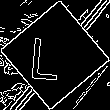L_N: (37, 28, 73, 82)
